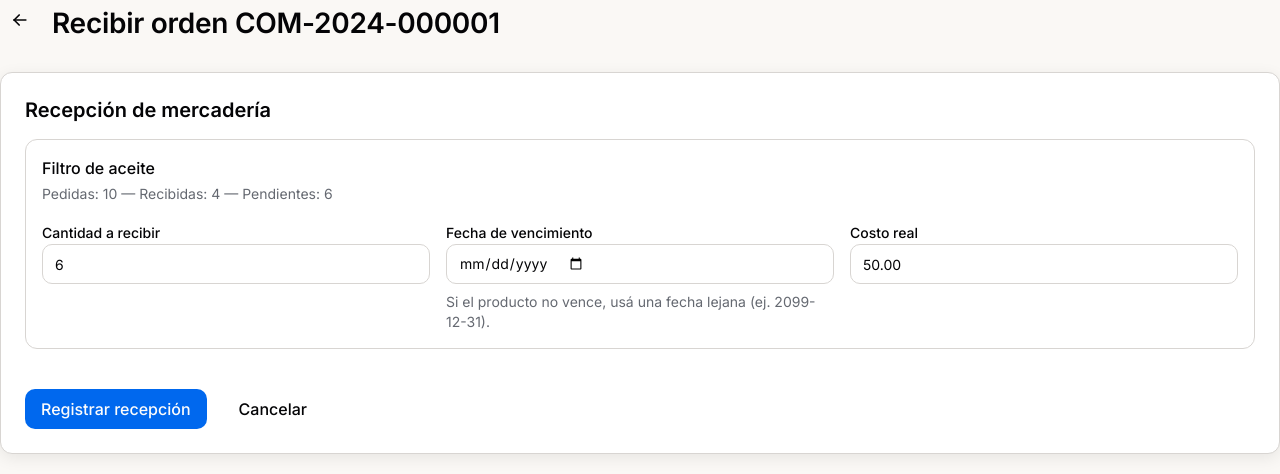
Test: PurchaseOrderReceivePage › rejects money with more than 2 decimals
Replace the text in the field labelled "Costo real" with "10.999" at (1044, 264), box [850,244,1238,284]
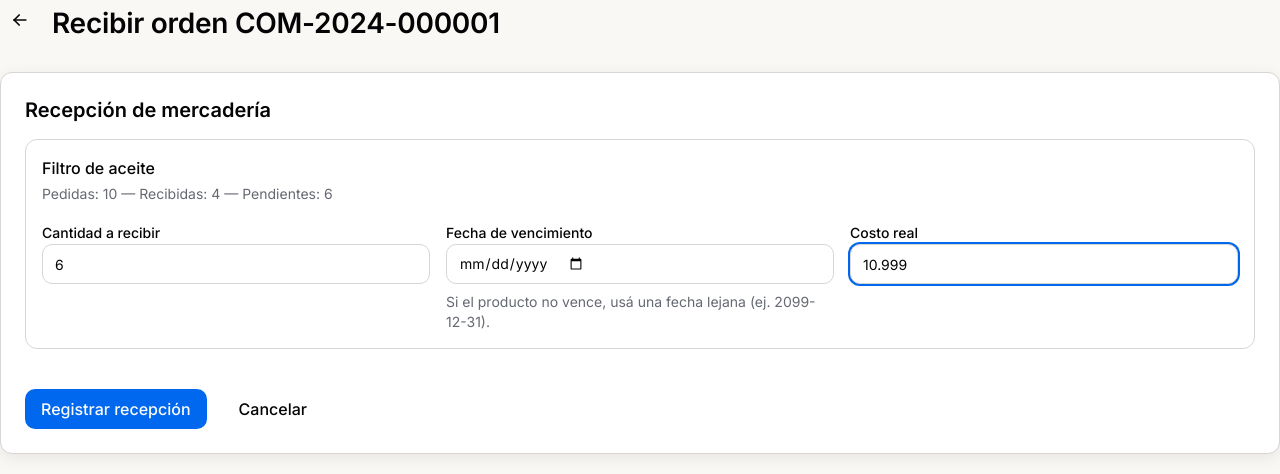
Type "2026-12-31" into the date field labelled "Fecha de vencimiento".
click(640, 264); type("2026-12-31")  # box [446,244,834,284]
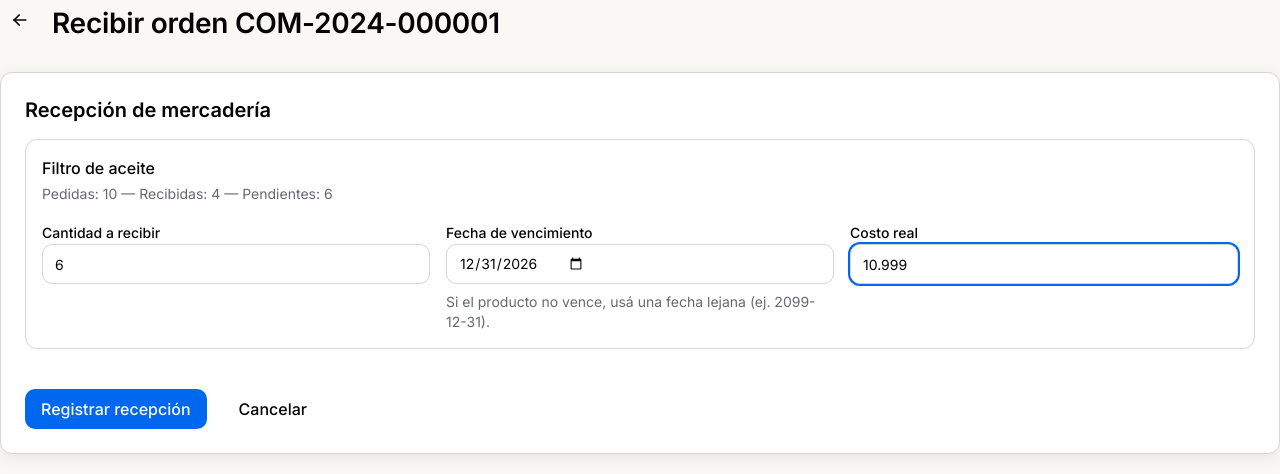
Click the button "Registrar recepción".
click(116, 409)  # box [25,389,207,429]
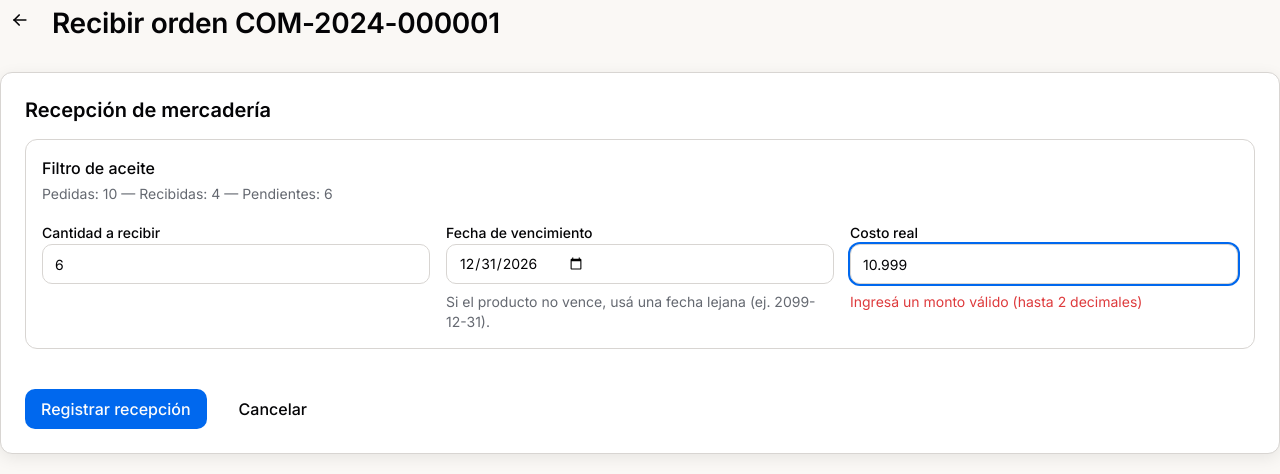
Check: the text "Ingresá un monto válido (hasta 2 decimales)" is shown, box [850,293,1142,310]
